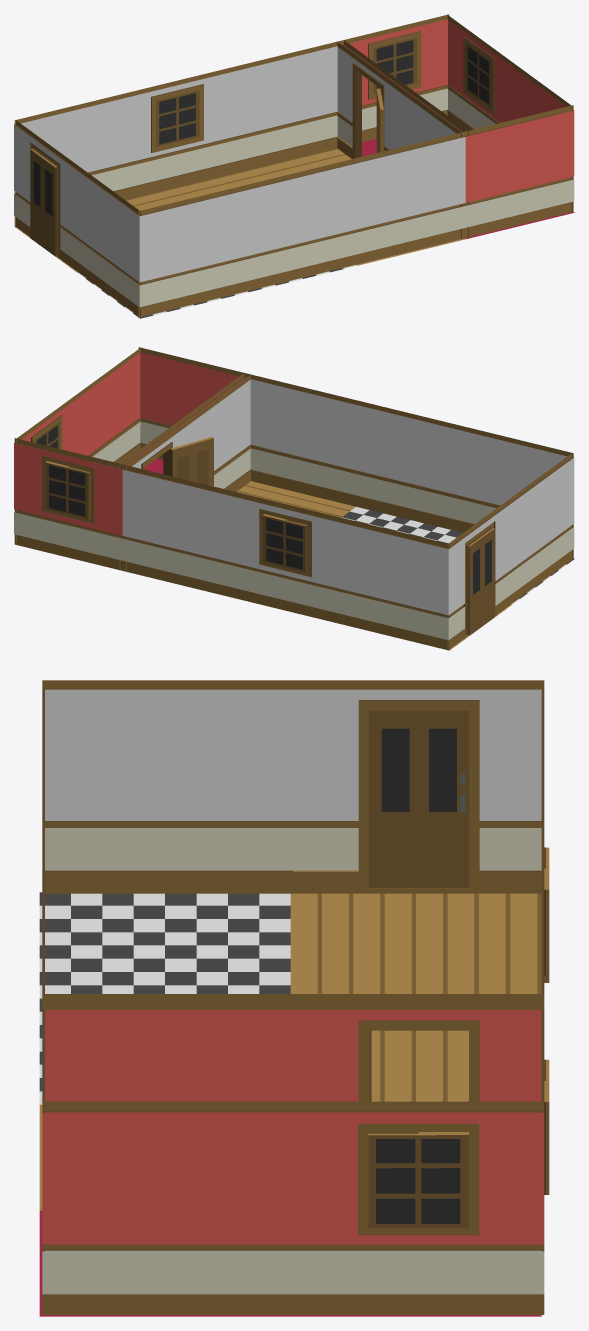
Rendered from house 2.fbx.
3 renders of one model, top to bottom at view 1: azimuth 30°, elevation 25°; view 2: azimuth 150°, elevation 25°; view 3: azimuth 270°, elevation 25°, orthographic. The views are drawn at different scales.
Visible parts, largest first — view 1: Wall_02_Grey.024, Wall_02_Red.003, Wall_02_Grey.027, Wall_02_Grey.026, Wall_02_Grey.029, Wall_Window_02_Grey.002, Wall_02_Grey.023, Wall_02_Grey.025, Wall_Window__2_Red.003, Wall_Door_02_Grey.009, Wall_Window__2_Red.004, Wall_Door_02_Grey.010 (+11 smaller); view 2: Wall_02_Grey.029, Wall_02_Grey.025, Wall_02_Grey.027, Wall_02_Grey.026, Wall_Window__2_Red.003, Wall_Window_02_Grey.002, Wall_02_Grey.023, Wall_02_Grey.024, Wall_02_Red.004, Wall_02_Red.003, Wall_02_Grey.028, Wall_Door_02_Grey.009 (+11 smaller); view 3: Wall_02_Red.004, Wall_02_Grey.023, Wall_Window__2_Red.004, Wall_Door_02_Grey.009, Floor_Wood.014, Wall_02_Red.002, Floor_Carpet_Tiles.005, Wall_Door_02_Red.002, Door.001, Window.003, Floor_Wood.013, Wall_Door_02_Grey.010 (+2 smaller).
Part boxes in pixels (<box>): Wall_02_Grey.024: <box>138,184,248,317</box>; Wall_02_Red.003: <box>465,105,574,237</box>; Wall_02_Grey.027: <box>247,158,356,290</box>; Wall_02_Grey.026: <box>356,131,465,264</box>; Wall_02_Grey.029: <box>231,41,340,173</box>; Wall_Window_02_Grey.002: <box>122,67,231,199</box>; Wall_02_Grey.023: <box>76,166,140,317</box>; Wall_02_Grey.025: <box>14,94,123,226</box>; Wall_Window__2_Red.003: <box>340,14,449,141</box>; Wall_Door_02_Grey.009: <box>14,120,77,271</box>; Wall_Window__2_Red.004: <box>447,15,510,130</box>; Wall_Door_02_Grey.010: <box>337,42,400,158</box>; Wall_02_Grey.029: <box>122,464,231,597</box>; Wall_02_Grey.025: <box>340,517,449,650</box>; Wall_02_Grey.027: <box>356,400,465,532</box>; Wall_02_Grey.026: <box>247,374,356,506</box>; Wall_Window__2_Red.003: <box>14,438,123,570</box>; Wall_Window_02_Grey.002: <box>231,491,340,623</box>; Wall_02_Grey.023: <box>510,453,574,604</box>; Wall_02_Grey.024: <box>465,427,573,559</box>; Wall_02_Red.004: <box>77,348,140,463</box>; Wall_02_Red.003: <box>138,347,247,459</box>; Wall_02_Grey.028: <box>188,374,251,491</box>; Wall_Door_02_Grey.009: <box>447,499,511,650</box>; Wall_02_Red.004: <box>42,1101,293,1314</box>; Wall_02_Grey.023: <box>42,680,293,893</box>; Wall_Window__2_Red.004: <box>293,1101,544,1314</box>; Wall_Door_02_Grey.009: <box>293,680,544,893</box>; Floor_Wood.014: <box>290,893,541,993</box>; Wall_02_Red.002: <box>42,1000,293,1101</box>; Floor_Carpet_Tiles.005: <box>39,892,290,998</box>; Wall_Door_02_Red.002: <box>293,1000,544,1101</box>; Door.001: <box>369,710,469,888</box>; Window.003: <box>368,1132,468,1228</box>; Floor_Wood.013: <box>371,1030,468,1101</box>; Wall_Door_02_Grey.010: <box>293,994,544,1101</box>.
Bounding box in the file's own units: 2039 × 474 × 1026.
1 material, 1 textured.
